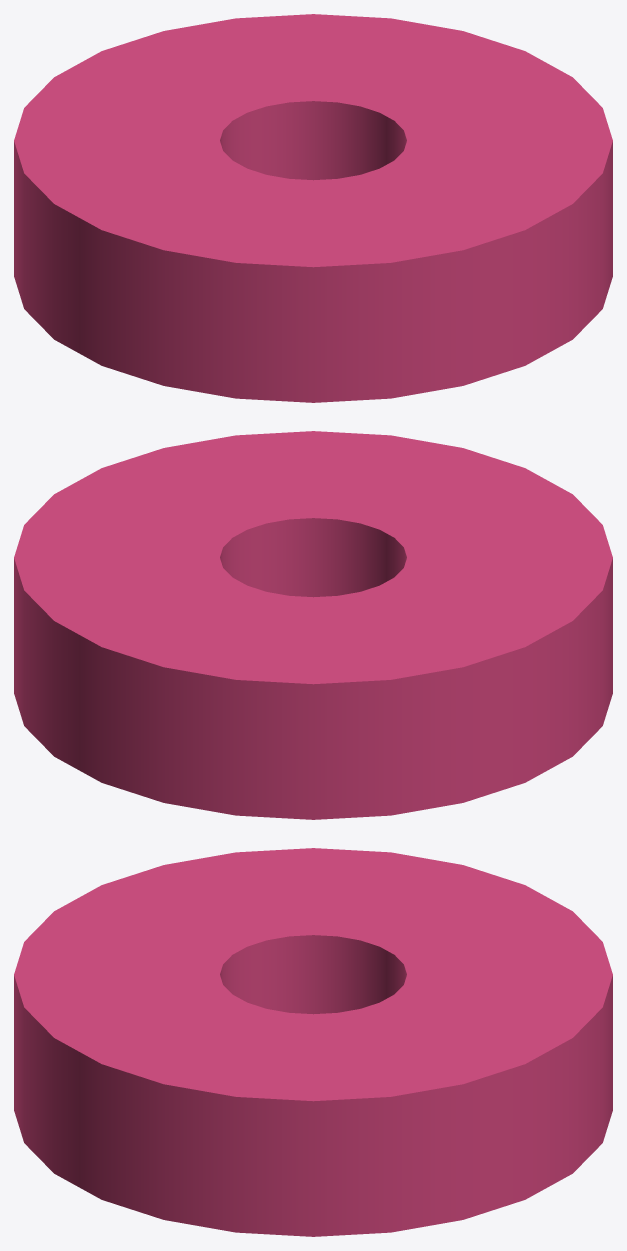
File: disc1.dae
3 renders of one model, top to bottom at view 1: azimuth 30°, elevation 25°; view 2: azimuth 150°, elevation 25°; view 3: azimuth 270°, elevation 25°, orthographic.
Visible parts, largest first — view 1: SketchUp (×2); view 2: SketchUp (×2); view 3: SketchUp (×2).
Boxes of the visible parts, x1,y1,x2,y2 form: SketchUp (×2): (14, 14, 612, 402); SketchUp (×2): (14, 431, 612, 819); SketchUp (×2): (14, 848, 612, 1236).
Bounding box in the file's own units: 2 × 2 × 0.5.
1 material, 1 textured.
